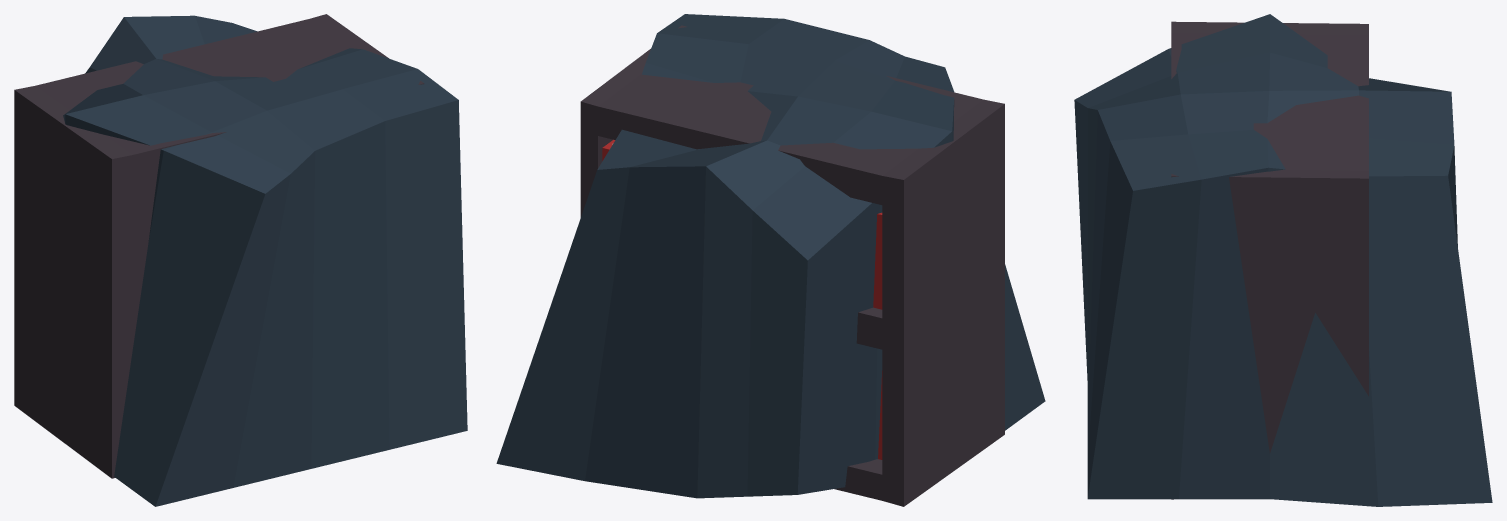
File: LevelParts1.fbx
3 views of the same model, side by side, from view 1: azimuth 30°, elevation 25°; view 2: azimuth 150°, elevation 25°; view 3: azimuth 270°, elevation 25° (orthographic). The views are drawn at different scales.
Visible parts, largest first — view 1: Rock, Bookshelf; view 2: Rock, Bookshelf; view 3: Rock, Bookshelf.
Part boxes in pixels (x1,y1,x2,y2): Rock: (63,15,467,506); Bookshelf: (14,14,424,478); Rock: (496,14,1045,498); Bookshelf: (580,25,1004,506); Rock: (1074,14,1492,506); Bookshelf: (1171,21,1368,499).
Bounding box in the file's own units: 2.13 × 2.02 × 2.29.
